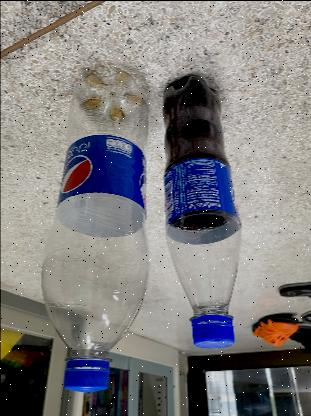Plastic Bottle: (41, 66, 149, 392), (162, 72, 240, 344)
